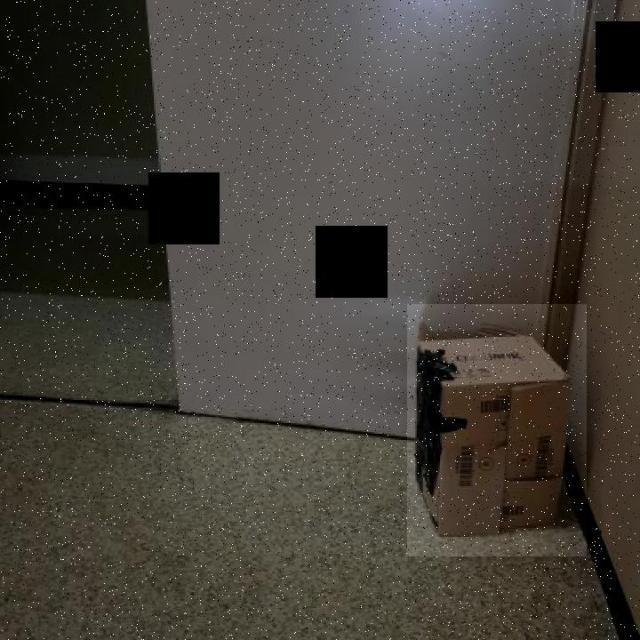box: (407, 304, 587, 557)
